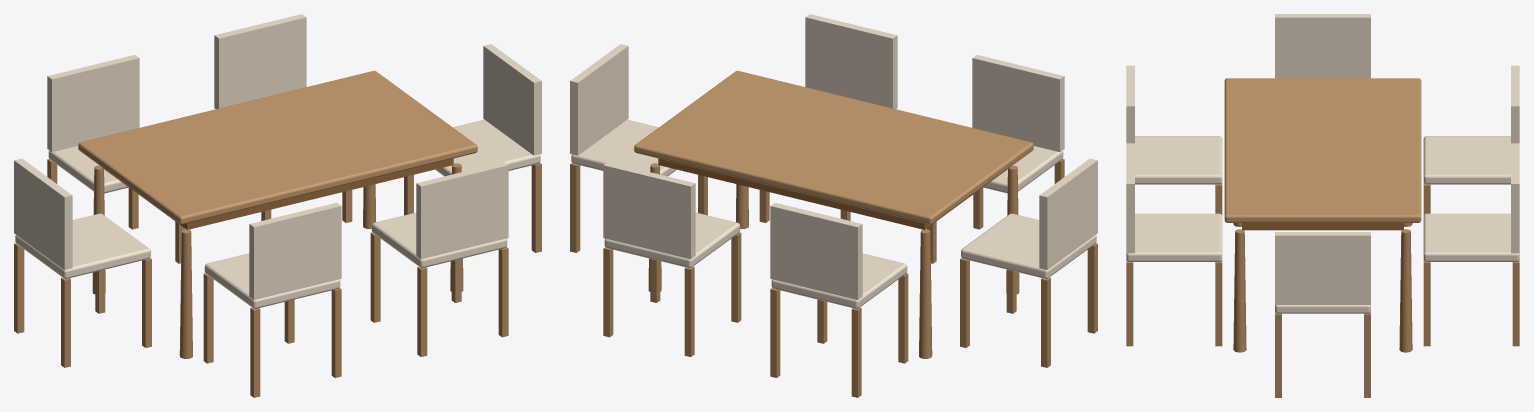
File: table-lite.glb
The picture shows the model from 3 angles, left to right: view 1: azimuth 30°, elevation 25°; view 2: azimuth 150°, elevation 25°; view 3: azimuth 270°, elevation 25°; orthographic projection. The views are drawn at different scales.
Parts seen in each view (by area): view 1: material-3-cushion, material-0-top, material-2-leg, material-1-trim; view 2: material-3-cushion, material-0-top, material-2-leg, material-1-trim; view 3: material-3-cushion, material-0-top, material-2-leg, material-1-trim.
Part boxes in pixels (left/top/right/bottom): material-3-cushion: left=14, top=14, right=541, bottom=308; material-0-top: left=78, top=70, right=477, bottom=224; material-2-leg: left=14, top=159, right=541, bottom=397; material-1-trim: left=102, top=158, right=453, bottom=229; material-3-cushion: left=570, top=14, right=1097, bottom=308; material-0-top: left=634, top=70, right=1033, bottom=224; material-2-leg: left=570, top=159, right=1097, bottom=397; material-1-trim: left=658, top=158, right=1009, bottom=229; material-3-cushion: left=1126, top=14, right=1519, bottom=313; material-0-top: left=1224, top=78, right=1421, bottom=222; material-2-leg: left=1126, top=183, right=1519, bottom=397; material-1-trim: left=1242, top=223, right=1403, bottom=230.
Bounding box in the file's own units: 2.4 × 0.82 × 1.8.
